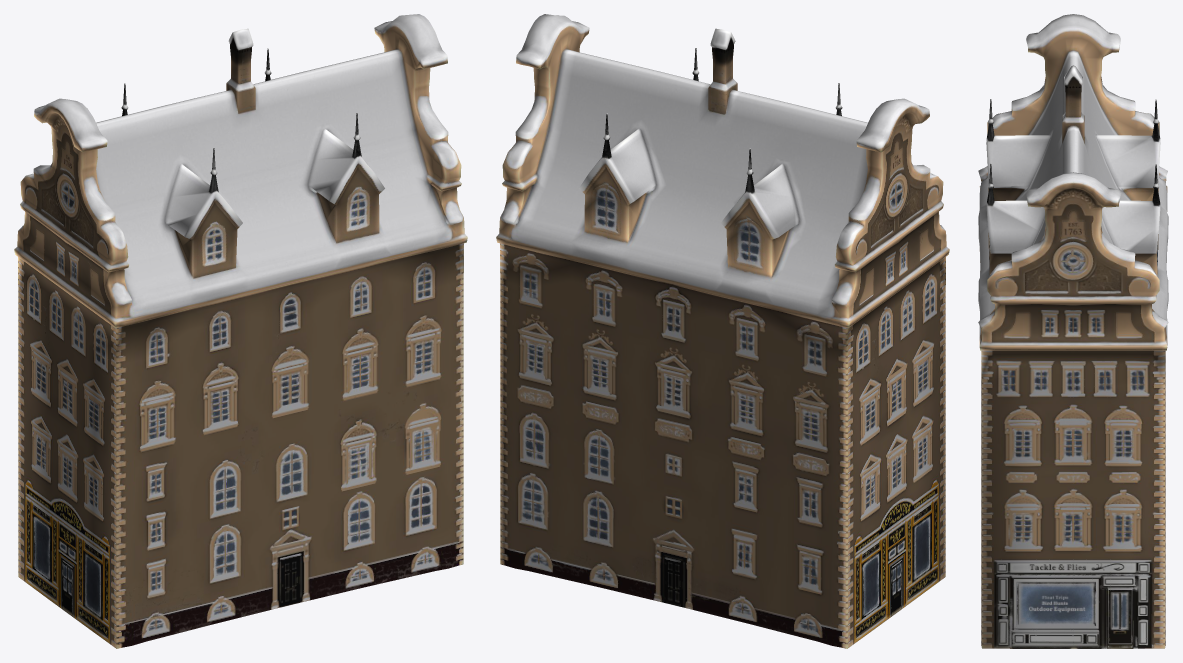
Rendered from House-8.FBX.
3 views of the same model, side by side, from view 1: azimuth 30°, elevation 25°; view 2: azimuth 150°, elevation 25°; view 3: azimuth 270°, elevation 25° (orthographic). The views are drawn at different scales.
Parts seen in each view (by area): view 1: House-8; view 2: House-8; view 3: House-8.
Part boxes in pixels (x1,y1,x2,y2): House-8: (14, 14, 467, 648); House-8: (496, 14, 949, 648); House-8: (978, 14, 1168, 648).
Bounding box in the file's own units: 50.46 × 71.1 × 24.44.
Materials: 1 (1 with a texture image).
